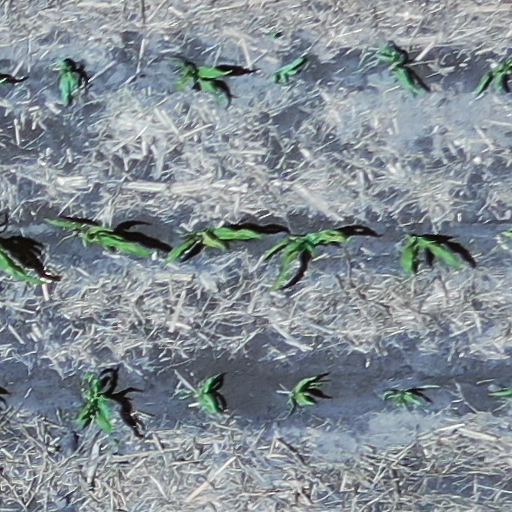planta: (262, 228, 348, 292), (158, 224, 269, 267), (52, 218, 159, 257), (167, 56, 233, 110), (368, 45, 427, 94), (165, 371, 226, 417), (75, 374, 114, 433), (401, 235, 460, 273), (273, 57, 306, 85), (289, 376, 319, 406), (381, 389, 429, 407), (57, 60, 77, 102)
